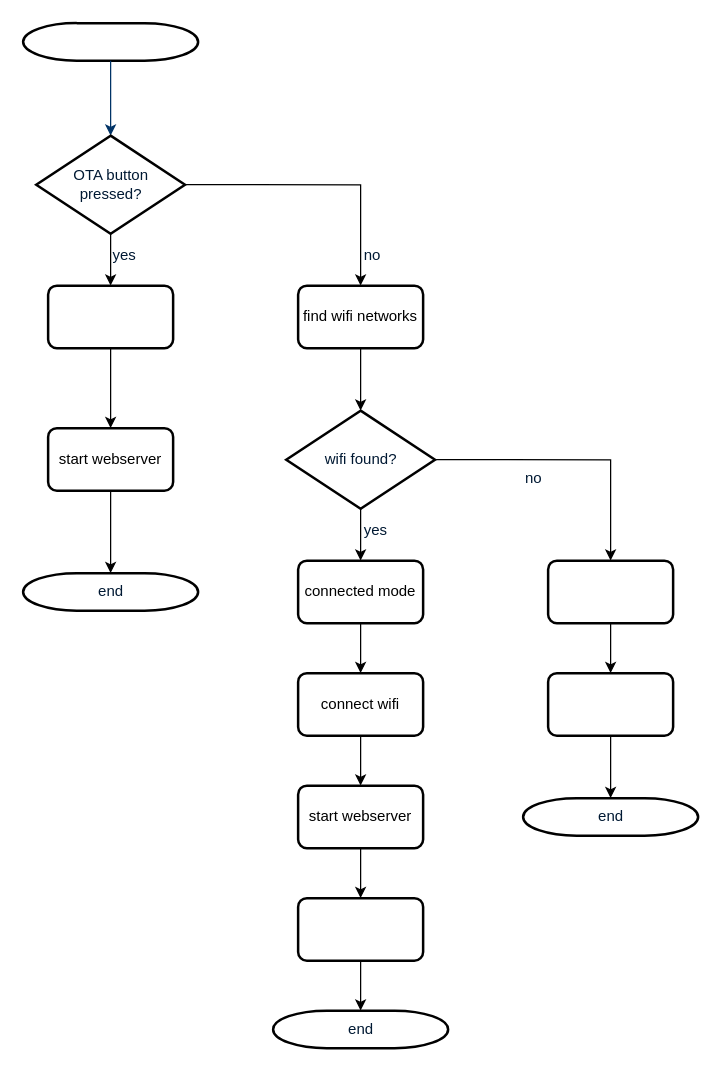
This 720x1070 diagram has some shape labels left out. Here are the shapes that lost their labels. From the top down, the centre of each, then its label:
At (110,41): "start".
At (110,316): "start wifi in access point mode".
At (610,591): "standalone mode".
At (610,703): "start bluetooth".
At (360,928): "register webui".
